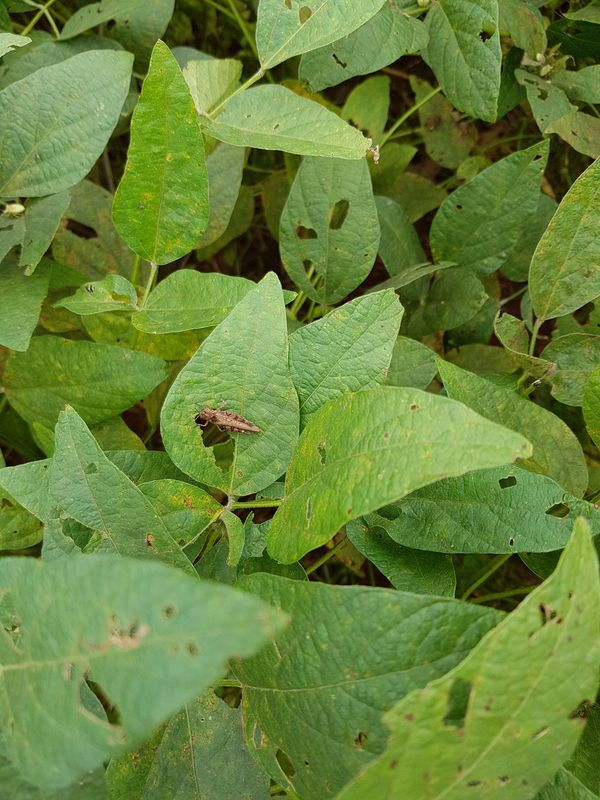Rhammatocerus_schistocercoides: (189, 389, 268, 453)
